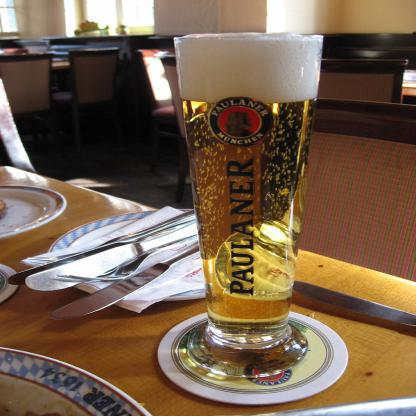drinking: (174, 32, 323, 378)
